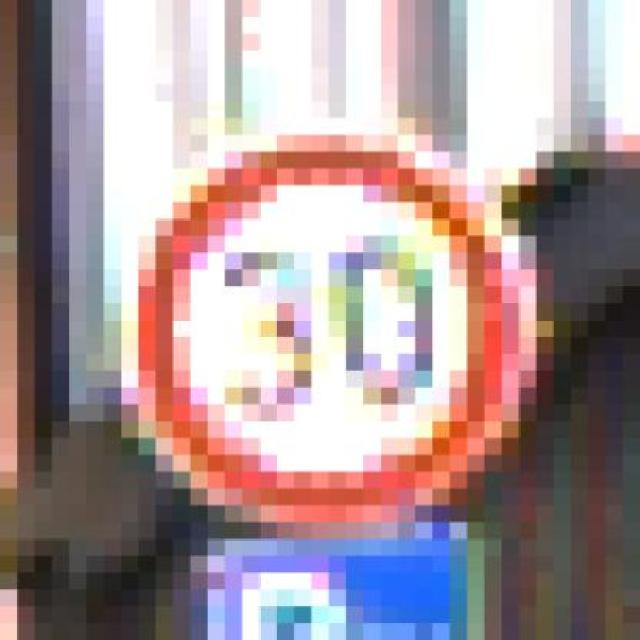Speed Limit 30 KMPh: (86, 84, 554, 539)
